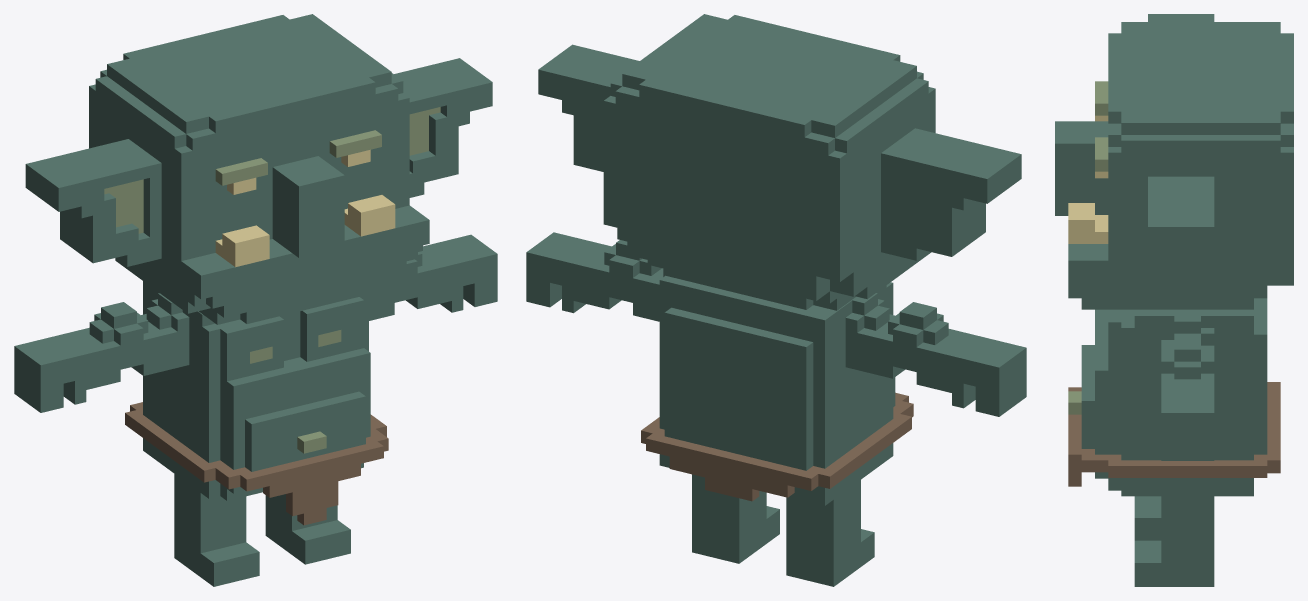
The model's file is Goblin.obj.
3 renders of one model, left to right at view 1: azimuth 30°, elevation 25°; view 2: azimuth 150°, elevation 25°; view 3: azimuth 270°, elevation 25°, orthographic. The views are drawn at different scales.
Size of the model in its own units: 4 by 4 by 1.8.
Materials: 1 (1 with a texture image).
